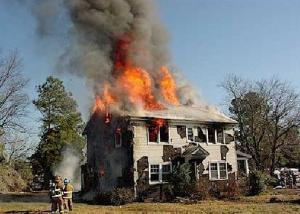fire: (92, 48, 192, 115)
